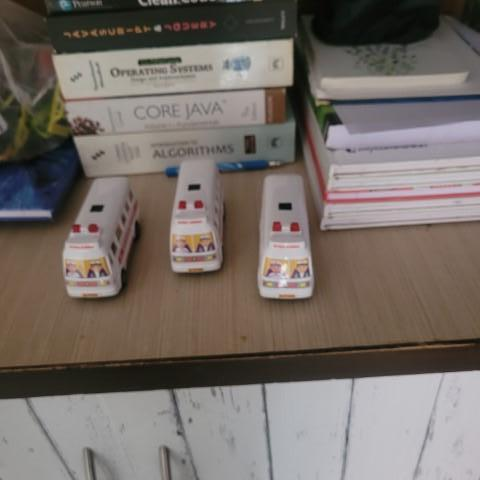ambulance: (60, 171, 144, 301), (256, 167, 312, 303), (167, 155, 228, 270)
